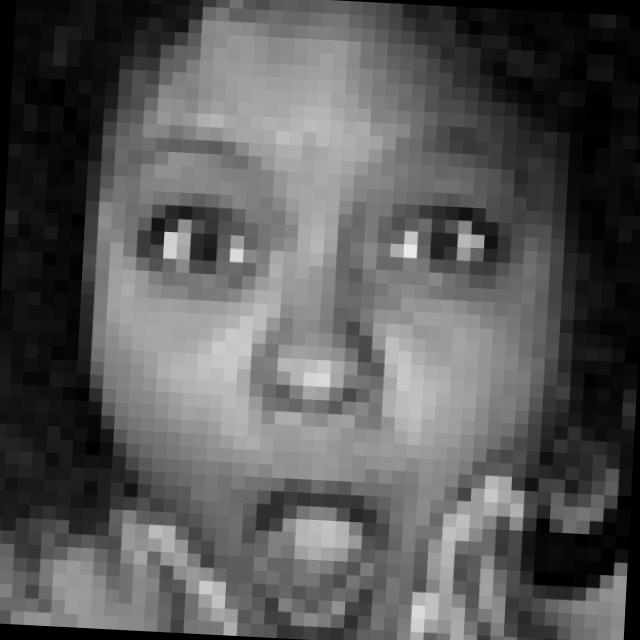surprise: (91, 98, 534, 640)
